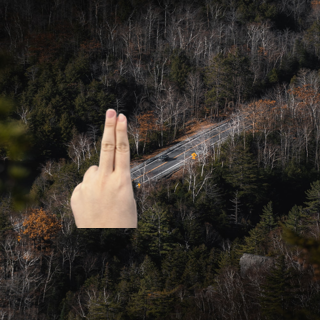DHAVE: (64, 103, 139, 227)
